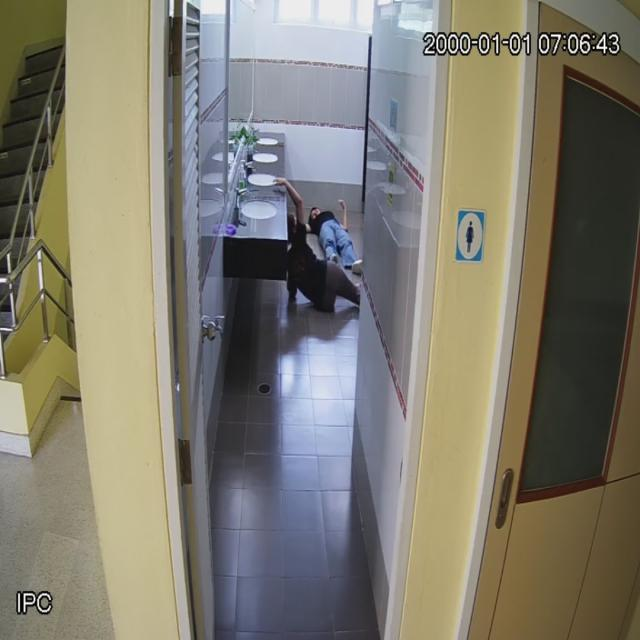fall: (278, 203, 360, 320), (312, 197, 369, 288)
